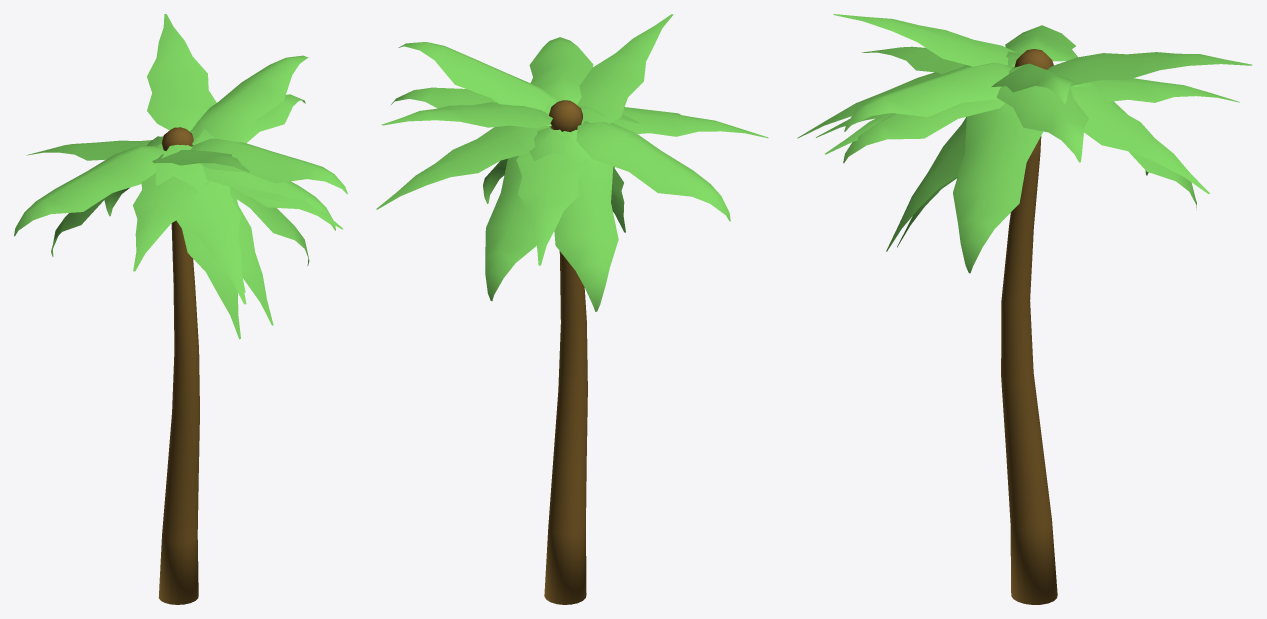
File: palm tree curved.fbx
3 renders of one model, left to right at view 1: azimuth 30°, elevation 25°; view 2: azimuth 150°, elevation 25°; view 3: azimuth 270°, elevation 25°, orthographic. The views are drawn at different scales.
Visible parts, largest first — view 1: Trunk, LeafEmit|Plane|Dupli|3, LeafEmit|Plane|Dupli|8, LeafEmit|Plane.001|Dupli|, LeafEmit|Plane.001|Dupli|10, LeafEmit|Plane.001|Dupli|16, LeafEmit|Plane|Dupli|1, LeafEmit|Plane.001|Dupli|17, LeafEmit|Plane|Dupli|14, LeafEmit|Plane|Dupli|13, LeafEmit|Plane.001|Dupli|12, LeafEmit|Plane|Dupli|6 (+5 smaller); view 2: Trunk, LeafEmit|Plane.001|Dupli|5, LeafEmit|Plane.001|Dupli|, LeafEmit|Plane.001|Dupli|7, LeafEmit|Plane|Dupli|6, LeafEmit|Plane|Dupli|4, LeafEmit|Plane.001|Dupli|10, LeafEmit|Plane|Dupli|9, LeafEmit|Plane.001|Dupli|16, LeafEmit|Plane|Dupli|8, LeafEmit|Plane|Dupli|1, LeafEmit|Plane.001|Dupli|11 (+2 smaller); view 3: Trunk, LeafEmit|Plane.001|Dupli|12, LeafEmit|Plane.001|Dupli|16, LeafEmit|Plane|Dupli|9, LeafEmit|Plane.001|Dupli|11, LeafEmit|Plane|Dupli|8, LeafEmit|Plane|Dupli|4, LeafEmit|Plane.001|Dupli|17, LeafEmit|Plane|Dupli|13, LeafEmit|Plane|Dupli|6, LeafEmit|Plane.001|Dupli|, LeafEmit|Plane.001|Dupli|10 (+3 smaller).
Part boxes in pixels (x1,y1,x2,y2): Trunk: (158,220,199,604); LeafEmit|Plane|Dupli|3: (155,144,246,304); LeafEmit|Plane|Dupli|8: (147,14,216,131); LeafEmit|Plane.001|Dupli|: (14,145,165,236); LeafEmit|Plane.001|Dupli|10: (190,55,308,142); LeafEmit|Plane.001|Dupli|16: (191,138,347,194); LeafEmit|Plane|Dupli|1: (133,173,209,271); LeafEmit|Plane.001|Dupli|17: (202,165,335,230); LeafEmit|Plane|Dupli|14: (176,219,240,339); LeafEmit|Plane|Dupli|13: (230,195,273,325); LeafEmit|Plane.001|Dupli|12: (230,187,309,265); LeafEmit|Plane|Dupli|6: (27,140,163,160); Trunk: (544,251,587,604); LeafEmit|Plane.001|Dupli|5: (554,130,618,311); LeafEmit|Plane.001|Dupli|: (576,121,730,221); LeafEmit|Plane.001|Dupli|7: (485,127,565,300); LeafEmit|Plane|Dupli|6: (516,152,588,265); LeafEmit|Plane|Dupli|4: (577,14,673,124); LeafEmit|Plane.001|Dupli|10: (398,42,557,126); LeafEmit|Plane|Dupli|9: (376,125,550,209); LeafEmit|Plane.001|Dupli|16: (529,37,593,104); LeafEmit|Plane|Dupli|8: (381,102,552,128); LeafEmit|Plane|Dupli|1: (612,107,768,138); LeafEmit|Plane.001|Dupli|11: (391,87,561,114); Trunk: (1001,136,1057,604); LeafEmit|Plane.001|Dupli|12: (953,103,1043,273); LeafEmit|Plane.001|Dupli|16: (844,63,1014,131); LeafEmit|Plane|Dupli|9: (1070,86,1209,194); LeafEmit|Plane.001|Dupli|11: (996,65,1088,162); LeafEmit|Plane|Dupli|8: (1047,52,1252,85); LeafEmit|Plane|Dupli|4: (833,14,1016,66); LeafEmit|Plane.001|Dupli|17: (843,99,1005,163); LeafEmit|Plane|Dupli|13: (886,117,966,251); LeafEmit|Plane|Dupli|6: (1090,78,1239,102); LeafEmit|Plane.001|Dupli|: (1005,25,1077,61); LeafEmit|Plane.001|Dupli|10: (991,63,1080,103).
Size of the model in its own units: 272 by 425 by 300.
